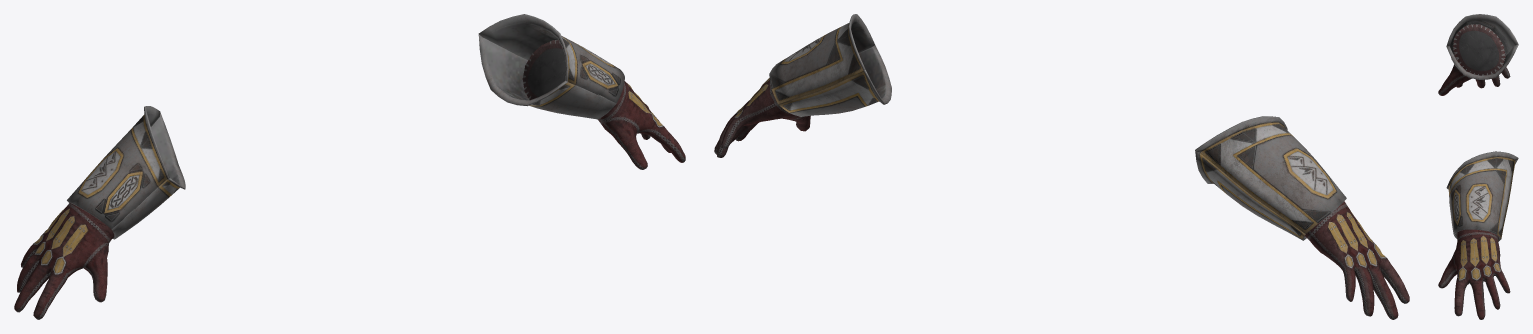
The model's file is sk_dwarf_dain_bracer_med_a.fbx.
3 views of the same model, side by side, from view 1: azimuth 30°, elevation 25°; view 2: azimuth 150°, elevation 25°; view 3: azimuth 270°, elevation 25° (orthographic). The views are drawn at different scales.
Parts seen in each view (by area): view 1: sk_dwarf_dain_bracer_med_a.0, sk_dwarf_dain_bracer_med_a.1; view 2: sk_dwarf_dain_bracer_med_a.0, sk_dwarf_dain_bracer_med_a.1; view 3: sk_dwarf_dain_bracer_med_a.1, sk_dwarf_dain_bracer_med_a.0.
Part boxes in pixels (<box>): sk_dwarf_dain_bracer_med_a.0: <box>67,14,624,239</box>; sk_dwarf_dain_bracer_med_a.1: <box>14,39,685,319</box>; sk_dwarf_dain_bracer_med_a.0: <box>769,14,1346,240</box>; sk_dwarf_dain_bracer_med_a.1: <box>714,78,1409,319</box>; sk_dwarf_dain_bracer_med_a.1: <box>1438,24,1510,319</box>; sk_dwarf_dain_bracer_med_a.0: <box>1446,14,1518,241</box>.
Size of the model in its own units: 1.43 by 0.2074 by 0.3405.
2 materials, 2 textured.
